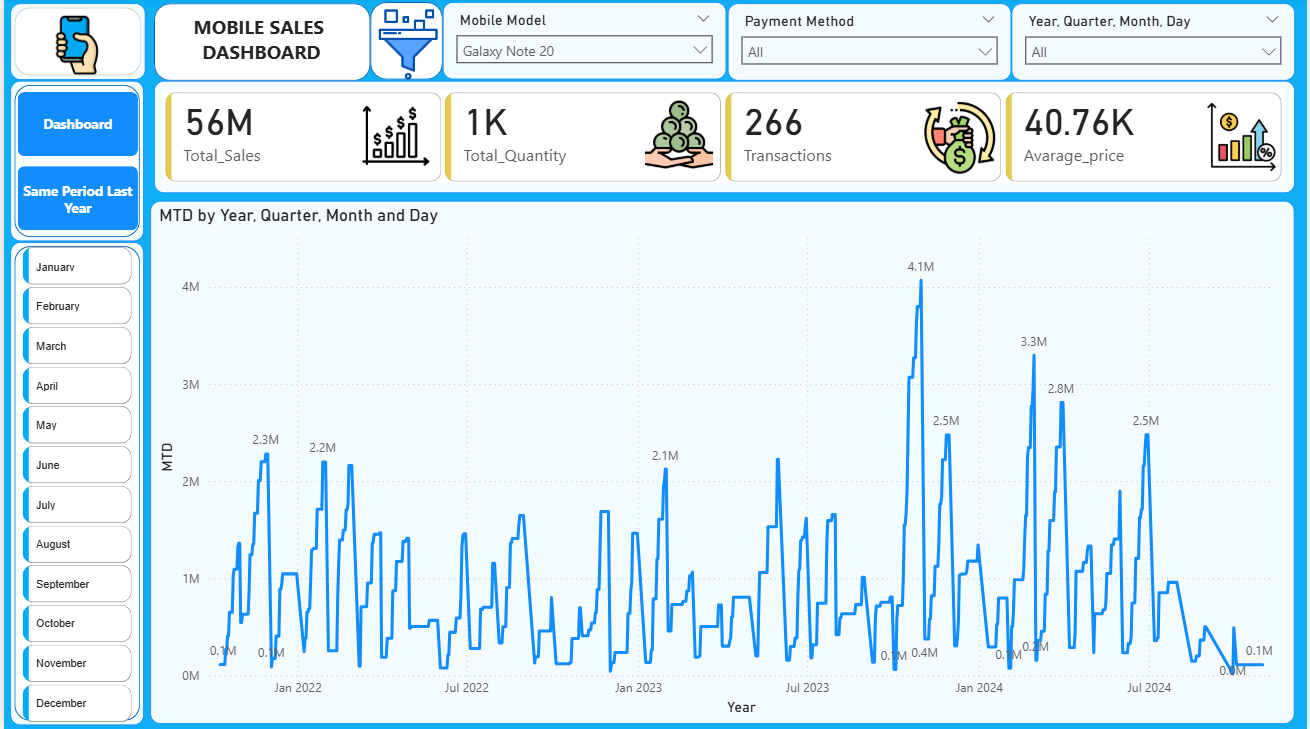

What the dashboard file says about the page in this screenshot:
{"tool":"powerbi","page":{"name":"MTD Report","canvas":[1280,720],"ordinal":1},"visuals":[{"type":"shape","box":[6.2,6.2,132.5,75],"z":0},{"type":"image","box":[35,18.8,75,57.5],"z":1000},{"type":"shape","box":[6.2,82.5,131.2,157.5],"z":2000},{"type":"cardVisual","fields":{"Data":["sales_data.Total_Sales","sales_data.Total_Quantity","sales_data.Transactions","sales_data.Avarage_price"]},"box":[147.5,82.5,1120,110],"z":3000},{"type":"image","box":[337.5,100,93.8,73.8],"z":4000},{"type":"image","box":[616.2,100,93.8,71.2],"z":5000},{"type":"image","box":[900,102.5,77.5,70],"z":6000},{"type":"image","box":[1178.8,101.2,71.2,71.2],"z":7000},{"type":"slicer","fields":{"Values":["sales_data.Mobile Model"]},"box":[431.2,5,278.8,76.2],"z":8000},{"type":"slicer","fields":{"Values":["sales_data.Payment Method"]},"box":[710,6.2,278.8,76.2],"z":9000},{"type":"slicer","fields":{"Values":["custom_calender.Date.Variation.Date Hierarchy.Year","custom_calender.Date.Variation.Date Hierarchy.Quarter","custom_calender.Date.Variation.Date Hierarchy.Month","custom_calender.Date.Variation.Date Hierarchy.Day"]},"box":[988.8,6.2,278.8,76.2],"z":10000},{"type":"shape","box":[360,5,71.2,76.2],"z":11000},{"type":"image","box":[360,11.2,75,71.2],"z":12000},{"type":"shape","box":[147.5,6.2,212.5,76.2],"z":13000},{"type":"textbox","box":[157.5,11.2,191.2,65],"z":14000},{"type":"lineChart","fields":{"Category":["custom_calender.Date.Variation.Date Hierarchy.Year","custom_calender.Date.Variation.Date Hierarchy.Quarter","custom_calender.Date.Variation.Date Hierarchy.Month","custom_calender.Date.Variation.Date Hierarchy.Day"],"Y":["sales_data.MTD"]},"box":[143.6,200.3,1123.2,513.9],"z":15000},{"type":"shape","box":[6,240.1,131.5,474.1],"z":16000},{"type":"advancedSlicerVisual","fields":{"Values":["custom_calender.Date.Variation.Date Hierarchy.Month"]},"box":[13.8,240,117.5,480],"z":17000},{"type":"pageNavigator","box":[13.7,93.3,118,137.2],"z":18000}]}

Visuals, with their boxes in screenshot pixels (x1, y1, x2, y2), scaled from the page's 1280x720 canvas onto the 1310x729 screenshot:
shape: select_region(6, 6, 142, 82)
image: select_region(36, 19, 113, 77)
shape: select_region(6, 84, 141, 243)
cardVisual - sales_data.Total_Sales x sales_data.Total_Quantity: select_region(151, 84, 1297, 195)
image: select_region(345, 101, 441, 176)
image: select_region(631, 101, 727, 173)
image: select_region(921, 104, 1000, 175)
image: select_region(1206, 102, 1279, 175)
slicer - sales_data.Mobile Model: select_region(441, 5, 727, 82)
slicer - sales_data.Payment Method: select_region(727, 6, 1012, 83)
slicer - custom_calender.Date.Variation.Date Hierarchy.Year x custom_calender.Date.Variation.Date Hierarchy.Quarter: select_region(1012, 6, 1297, 83)
shape: select_region(368, 5, 441, 82)
image: select_region(368, 11, 445, 83)
shape: select_region(151, 6, 368, 83)
textbox: select_region(161, 11, 357, 77)
lineChart - custom_calender.Date.Variation.Date Hierarchy.Year x custom_calender.Date.Variation.Date Hierarchy.Quarter: select_region(147, 203, 1296, 723)
shape: select_region(6, 243, 141, 723)
advancedSlicerVisual - custom_calender.Date.Variation.Date Hierarchy.Month: select_region(14, 243, 134, 728)
pageNavigator: select_region(14, 94, 135, 233)
